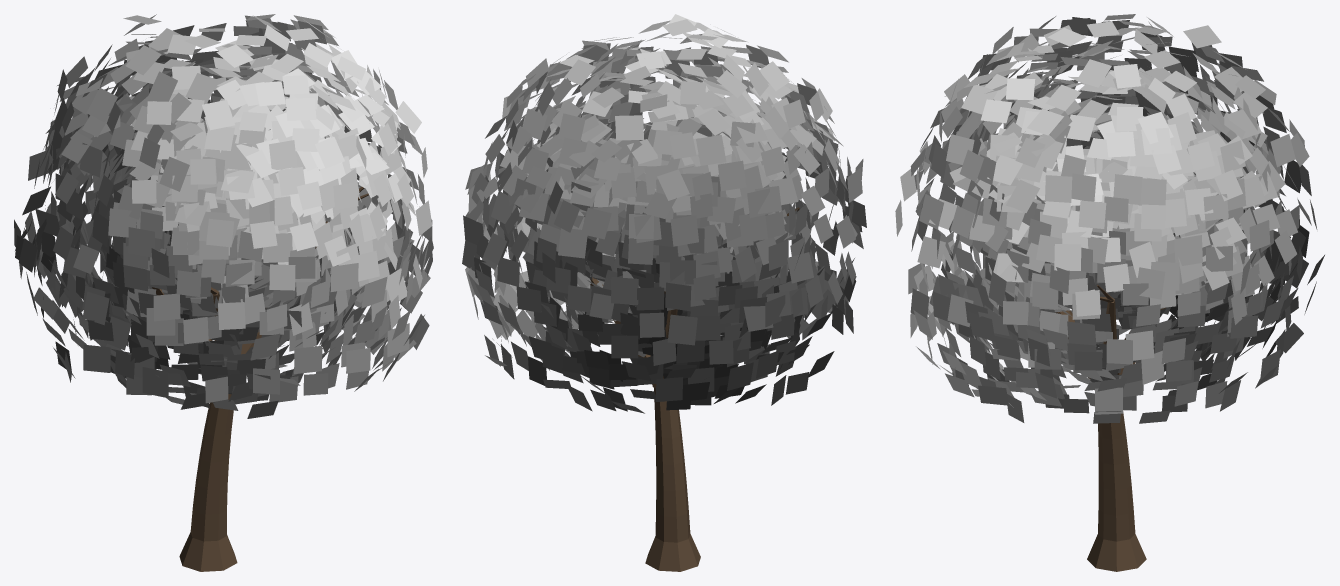
File: manaca.glb
3 renders of one model, left to right at view 1: azimuth 30°, elevation 25°; view 2: azimuth 150°, elevation 25°; view 3: azimuth 270°, elevation 25°, orthographic. The views are drawn at different scales.
Parts seen in each view (by area): view 1: mata_atlantica_manaca_adulta_folhagem_LOD0, mata_atlantica_manaca_adulta_tronco_LOD0; view 2: mata_atlantica_manaca_adulta_folhagem_LOD0, mata_atlantica_manaca_adulta_tronco_LOD0; view 3: mata_atlantica_manaca_adulta_folhagem_LOD0, mata_atlantica_manaca_adulta_tronco_LOD0.
Part boxes in pixels (x1,y1,x2,y2): mata_atlantica_manaca_adulta_folhagem_LOD0: (14, 14, 433, 418); mata_atlantica_manaca_adulta_tronco_LOD0: (152, 186, 368, 571); mata_atlantica_manaca_adulta_folhagem_LOD0: (462, 14, 866, 413); mata_atlantica_manaca_adulta_tronco_LOD0: (590, 207, 799, 571); mata_atlantica_manaca_adulta_folhagem_LOD0: (895, 14, 1324, 423); mata_atlantica_manaca_adulta_tronco_LOD0: (1055, 284, 1165, 571).
Size of what is drawn, in the model's own units: 4.52 by 6.31 by 4.63.
